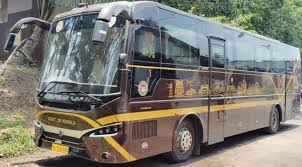bus: (3, 1, 302, 167)
